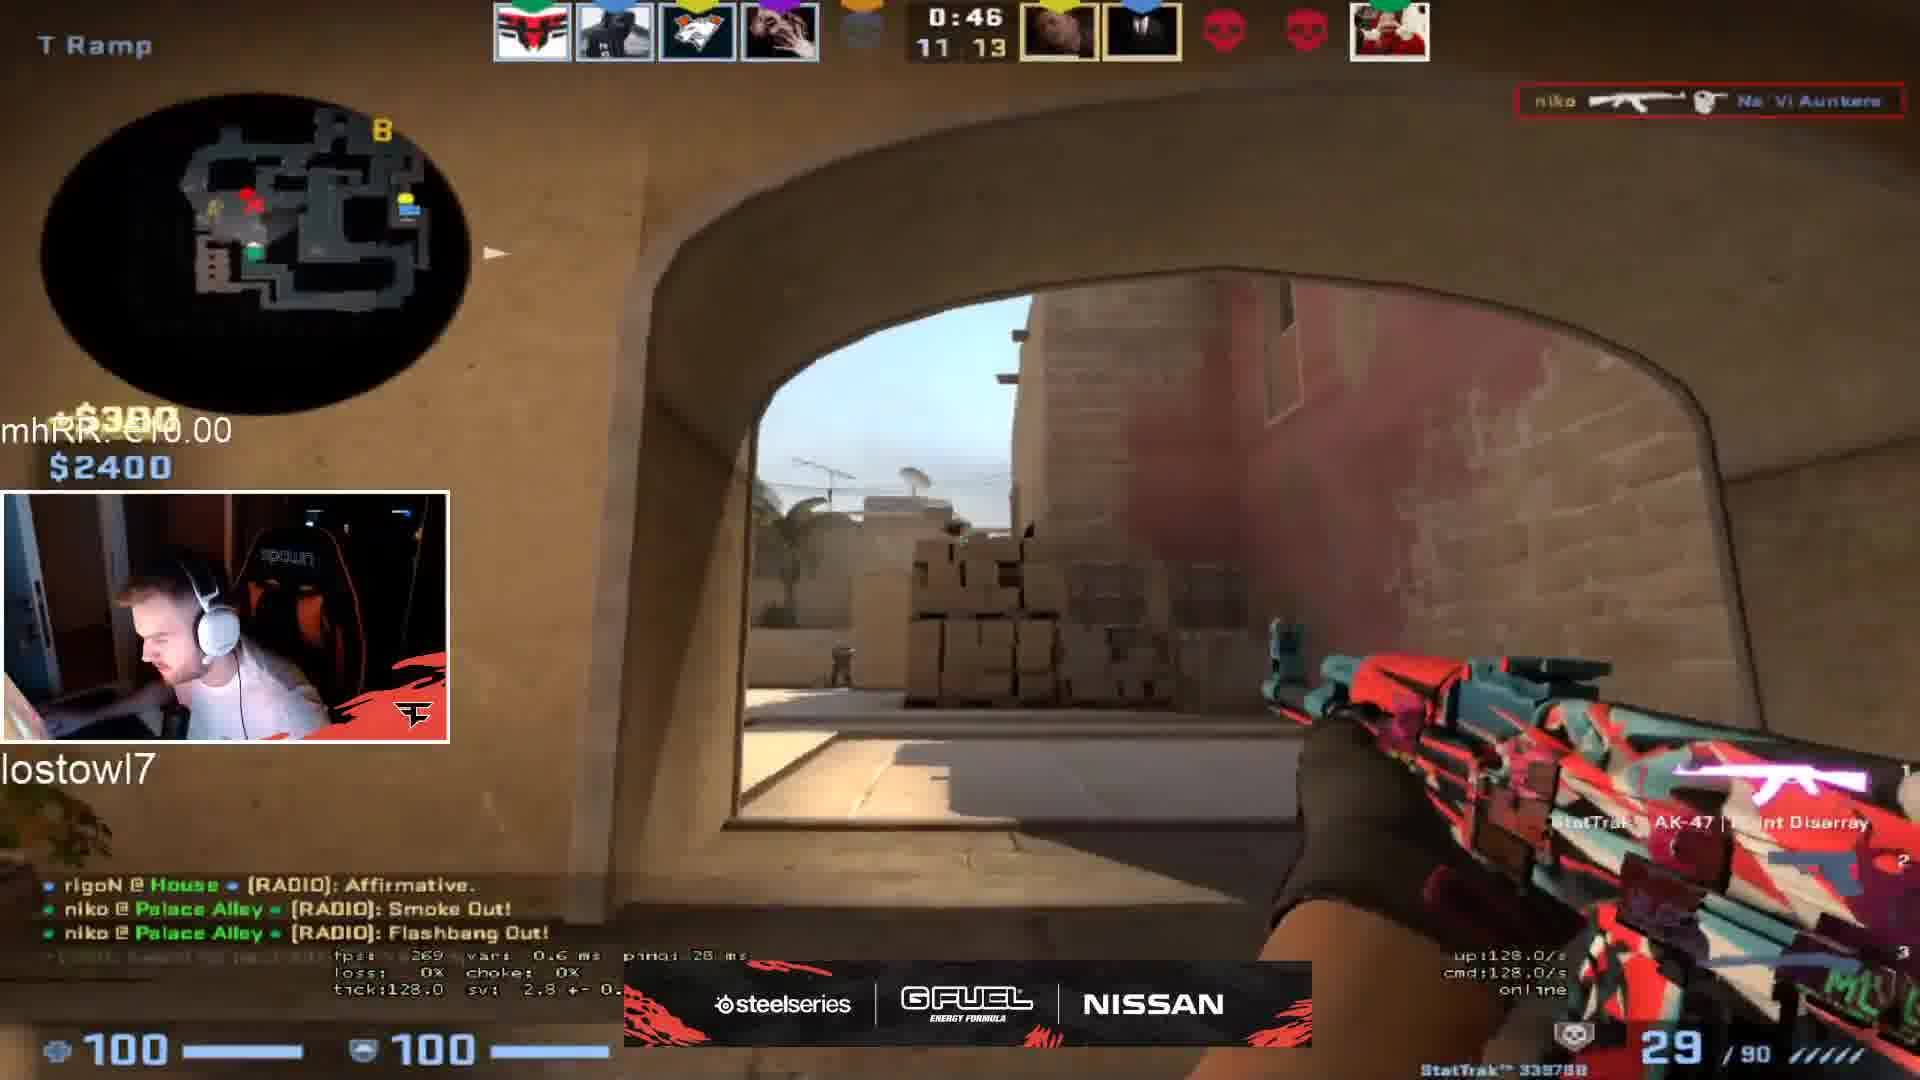enemy: (823, 642, 856, 696)
